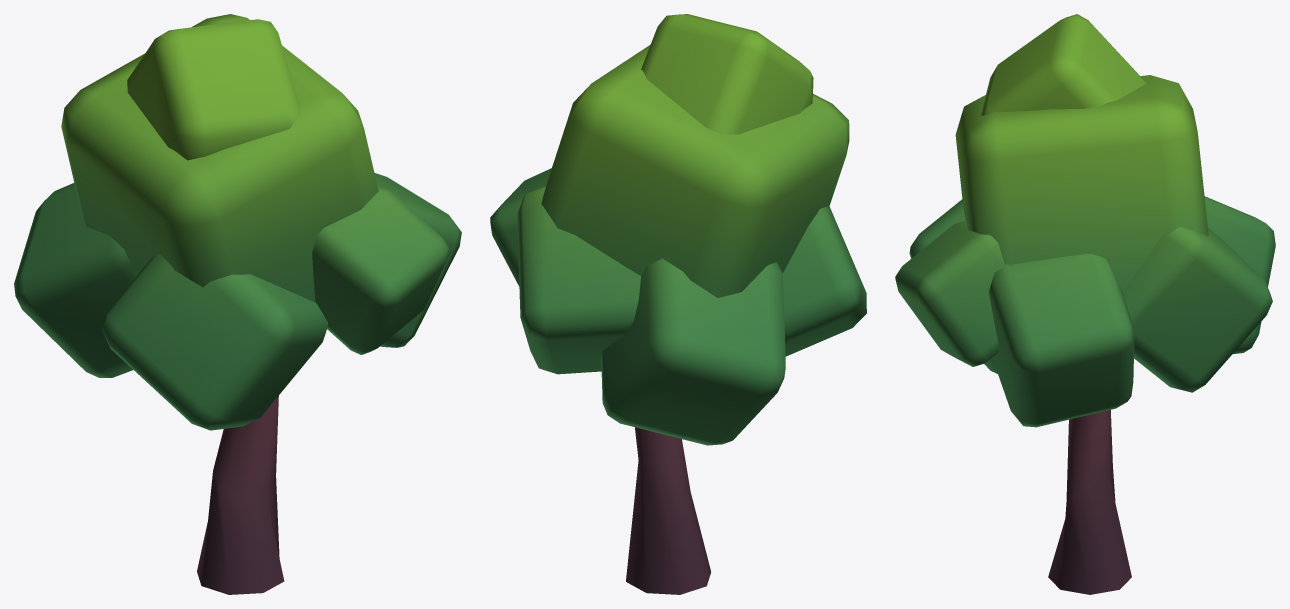
Rendered from tree_pack_05.glb.
3 views of the same model, side by side, from view 1: azimuth 30°, elevation 25°; view 2: azimuth 150°, elevation 25°; view 3: azimuth 270°, elevation 25° (orthographic). The views are drawn at different scales.
Parts seen in each view (by area): view 1: Tree.005; view 2: Tree.005; view 3: Tree.005.
Part boxes in pixels (x1=…): Tree.005: x1=14, y1=14, x2=461, y2=594; Tree.005: x1=490, y1=14, x2=866, y2=594; Tree.005: x1=895, y1=14, x2=1275, y2=594.
Size of the model in its own units: 3.61 by 5.51 by 3.6.
Materials: 1 (1 with a texture image).
